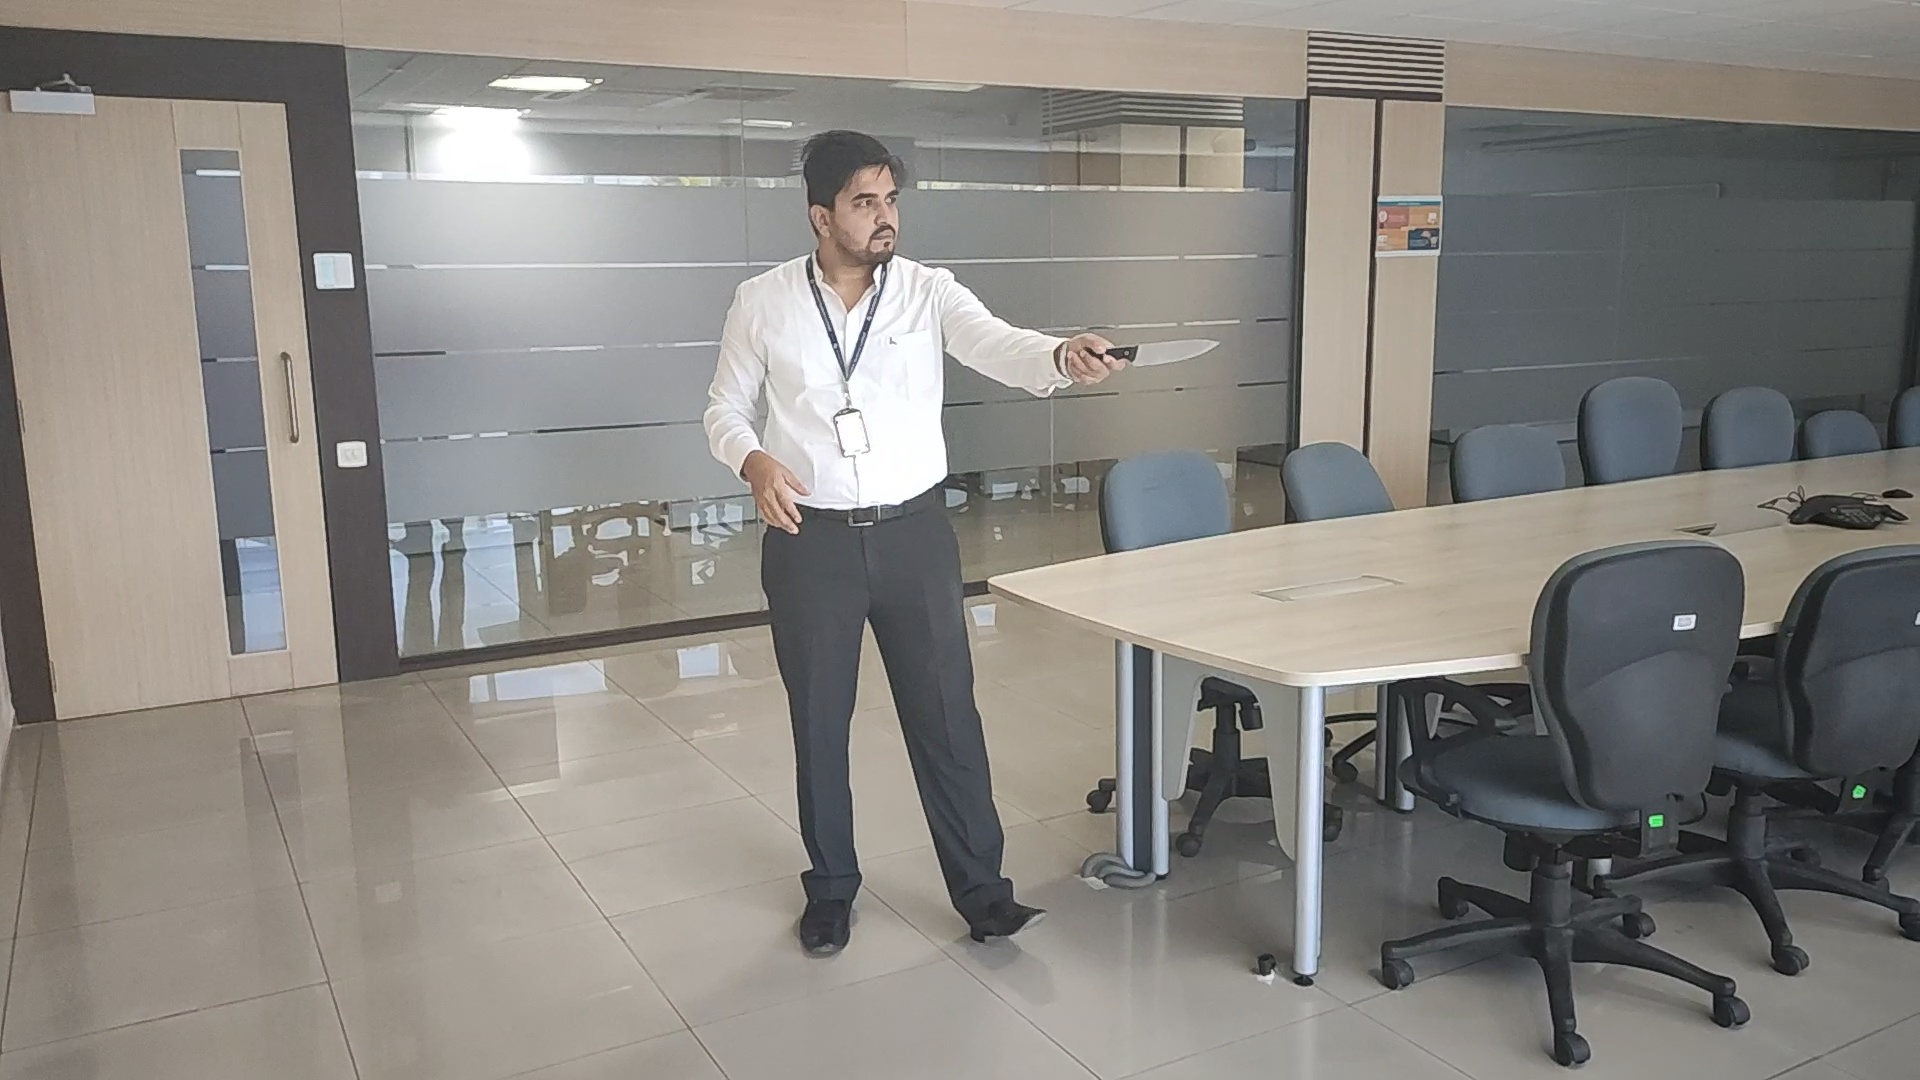knife: (1126, 338, 1222, 368)
